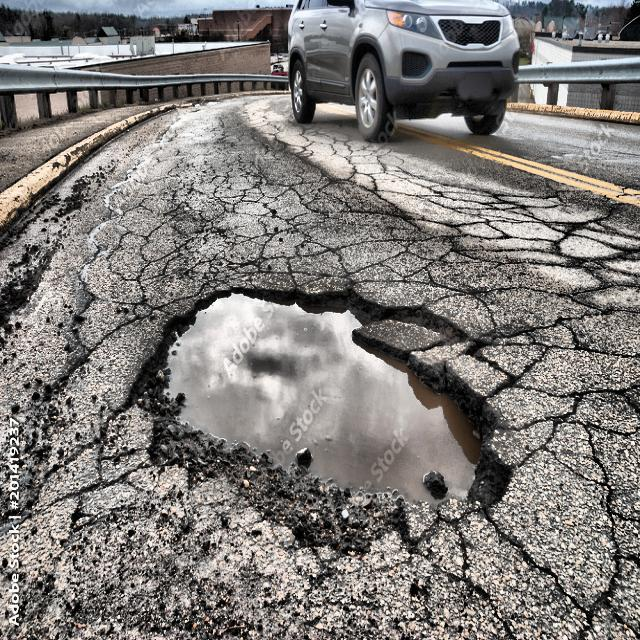pothole: (166, 293, 482, 505)
